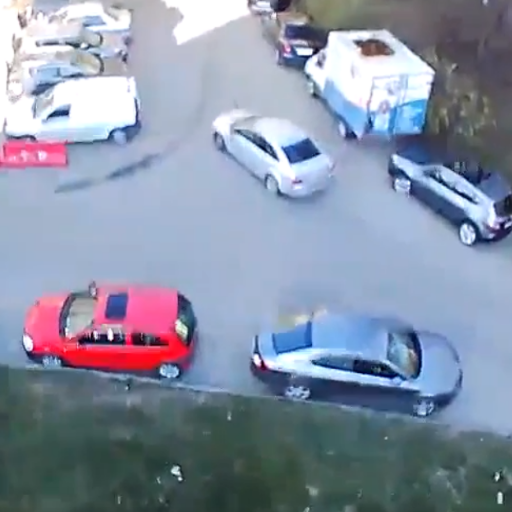Car: (244, 307, 459, 415), (18, 285, 196, 386), (305, 27, 432, 139), (212, 101, 336, 201), (390, 142, 512, 243), (3, 74, 150, 143), (7, 46, 134, 89), (12, 22, 127, 64), (14, 2, 137, 38), (260, 12, 322, 67)
